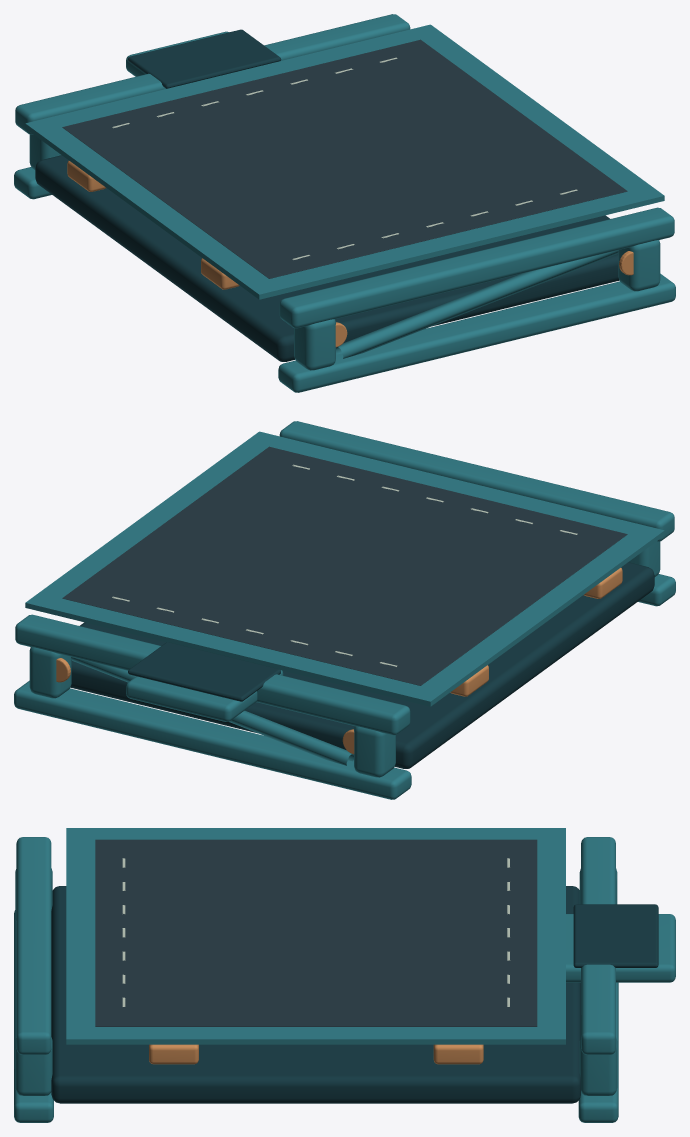
File: approved_soft_track_tile_economy.glb
3 views of the same model, one above another, from view 1: azimuth 30°, elevation 25°; view 2: azimuth 150°, elevation 25°; view 3: azimuth 270°, elevation 25° (orthographic). The views are drawn at different scales.
Parts seen in each view (by area): view 1: approved_track_Craft_MOD_rubber_tread_batch, approved_track_Craft_MOD_ocean_shell_batch, approved_track_Craft_MOD_chassis_dark_batch, approved_track_Craft_MOD_copper_latch_batch; view 2: approved_track_Craft_MOD_rubber_tread_batch, approved_track_Craft_MOD_ocean_shell_batch, approved_track_Craft_MOD_chassis_dark_batch, approved_track_Craft_MOD_copper_latch_batch; view 3: approved_track_Craft_MOD_rubber_tread_batch, approved_track_Craft_MOD_ocean_shell_batch, approved_track_Craft_MOD_chassis_dark_batch, approved_track_Craft_MOD_copper_latch_batch, approved_track_Craft_MOD_inlaid_mark_batch.
Part boxes in pixels (left/top/right/bottom): approved_track_Craft_MOD_rubber_tread_batch: left=62, top=39, right=627, bottom=278; approved_track_Craft_MOD_ocean_shell_batch: left=14, top=14, right=675, bottom=392; approved_track_Craft_MOD_chassis_dark_batch: left=35, top=29, right=619, bottom=361; approved_track_Craft_MOD_copper_latch_batch: left=67, top=161, right=633, bottom=347; approved_track_Craft_MOD_rubber_tread_batch: left=62, top=446, right=627, bottom=685; approved_track_Craft_MOD_ocean_shell_batch: left=14, top=421, right=675, bottom=799; approved_track_Craft_MOD_chassis_dark_batch: left=70, top=562, right=654, bottom=768; approved_track_Craft_MOD_copper_latch_batch: left=56, top=568, right=622, bottom=754; approved_track_Craft_MOD_rubber_tread_batch: left=95, top=839, right=537, bottom=1026; approved_track_Craft_MOD_ocean_shell_batch: left=14, top=828, right=675, bottom=1122; approved_track_Craft_MOD_chassis_dark_batch: left=51, top=886, right=658, bottom=1103; approved_track_Craft_MOD_copper_latch_batch: left=149, top=1044, right=483, bottom=1064; approved_track_Craft_MOD_inlaid_mark_batch: left=122, top=858, right=510, bottom=1006.
Size of the model in its own units: 2 by 0.4098 by 2.65.
